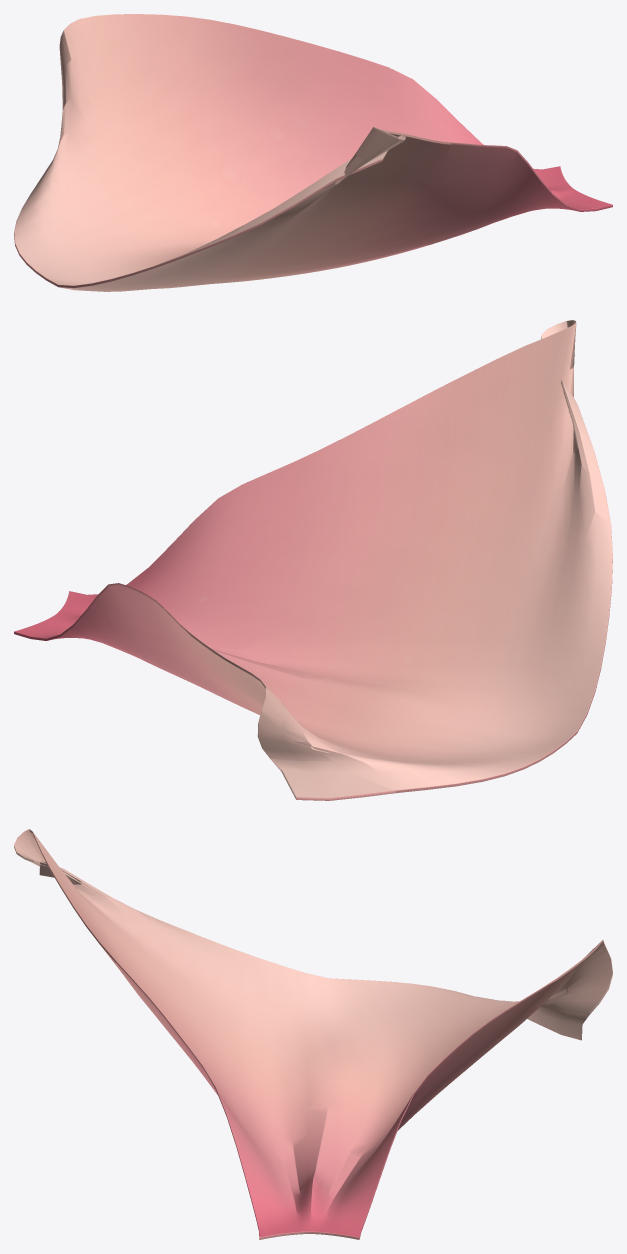
File: papri5.glb
3 views of the same model, one above another, from view 1: azimuth 30°, elevation 25°; view 2: azimuth 150°, elevation 25°; view 3: azimuth 270°, elevation 25° (orthographic). The views are drawn at different scales.
Parts seen in each view (by area): view 1: Papri_05; view 2: Papri_05; view 3: Papri_05.
Boxes of the visible parts, box(x1,y1,x2,y2) form: Papri_05: box(14, 14, 612, 291); Papri_05: box(14, 320, 612, 800); Papri_05: box(14, 829, 612, 1239).
Bounding box in the file's own units: 0.9477 × 0.465 × 0.9963.
Materials: 1 (1 with a texture image).
